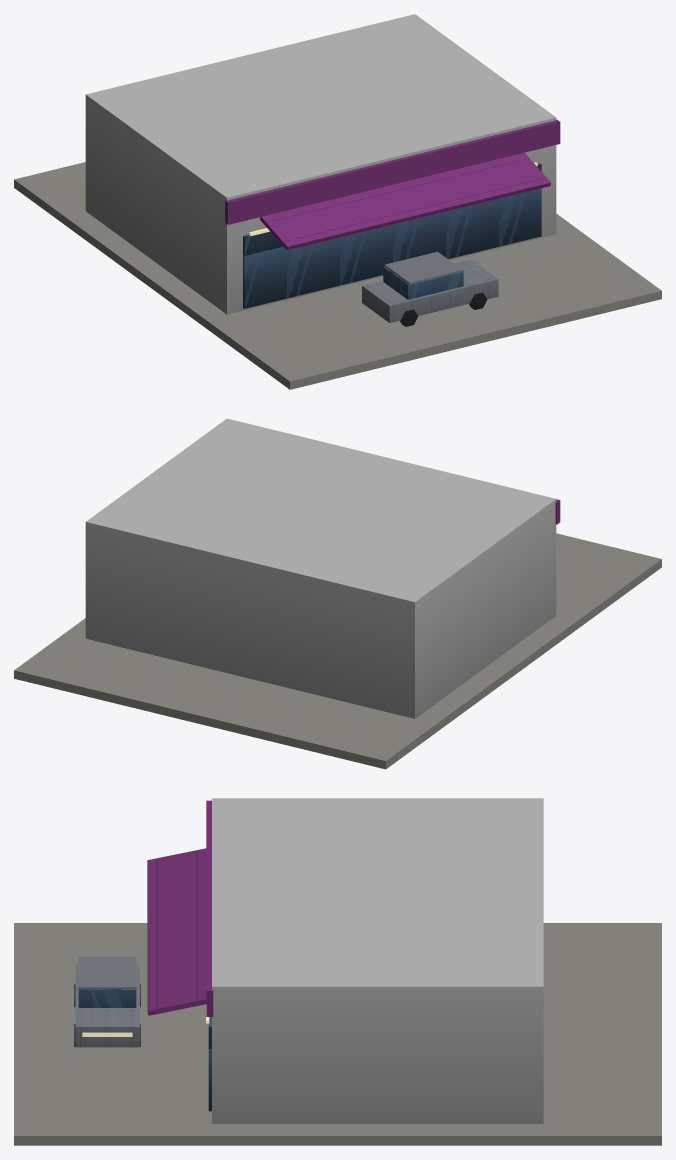
Rendered from loja_2.glb.
3 renders of one model, top to bottom at view 1: azimuth 30°, elevation 25°; view 2: azimuth 150°, elevation 25°; view 3: azimuth 270°, elevation 25°, orthographic. The views are drawn at different scales.
Parts seen in each view (by area): view 1: loja_2_liso, loja_2; view 2: loja_2_liso; view 3: loja_2_liso, loja_2.
Boxes of the visible parts, bbox=[...] form: loja_2_liso: bbox=[14, 14, 661, 389]; loja_2: bbox=[243, 152, 550, 322]; loja_2_liso: bbox=[14, 418, 661, 769]; loja_2_liso: bbox=[14, 798, 661, 1145]; loja_2: bbox=[75, 848, 211, 1111].
Size of the model in its own units: 14 by 4.5 by 18.
6 materials, 3 textured.
